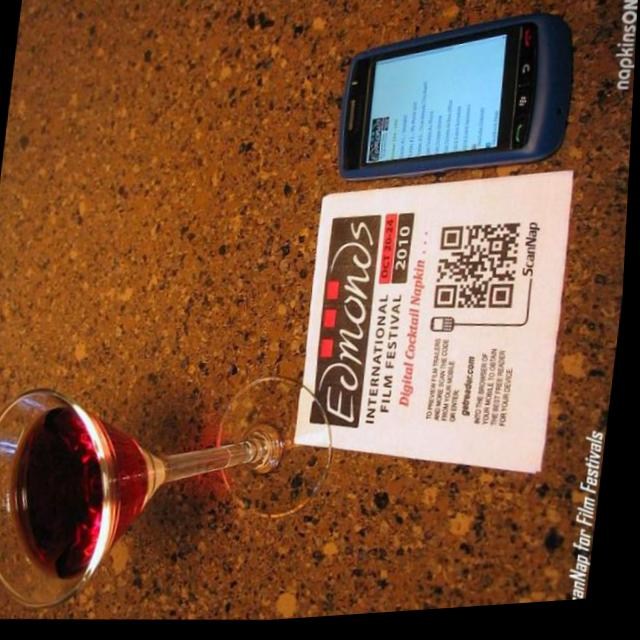qrcode: (437, 226, 525, 319)
